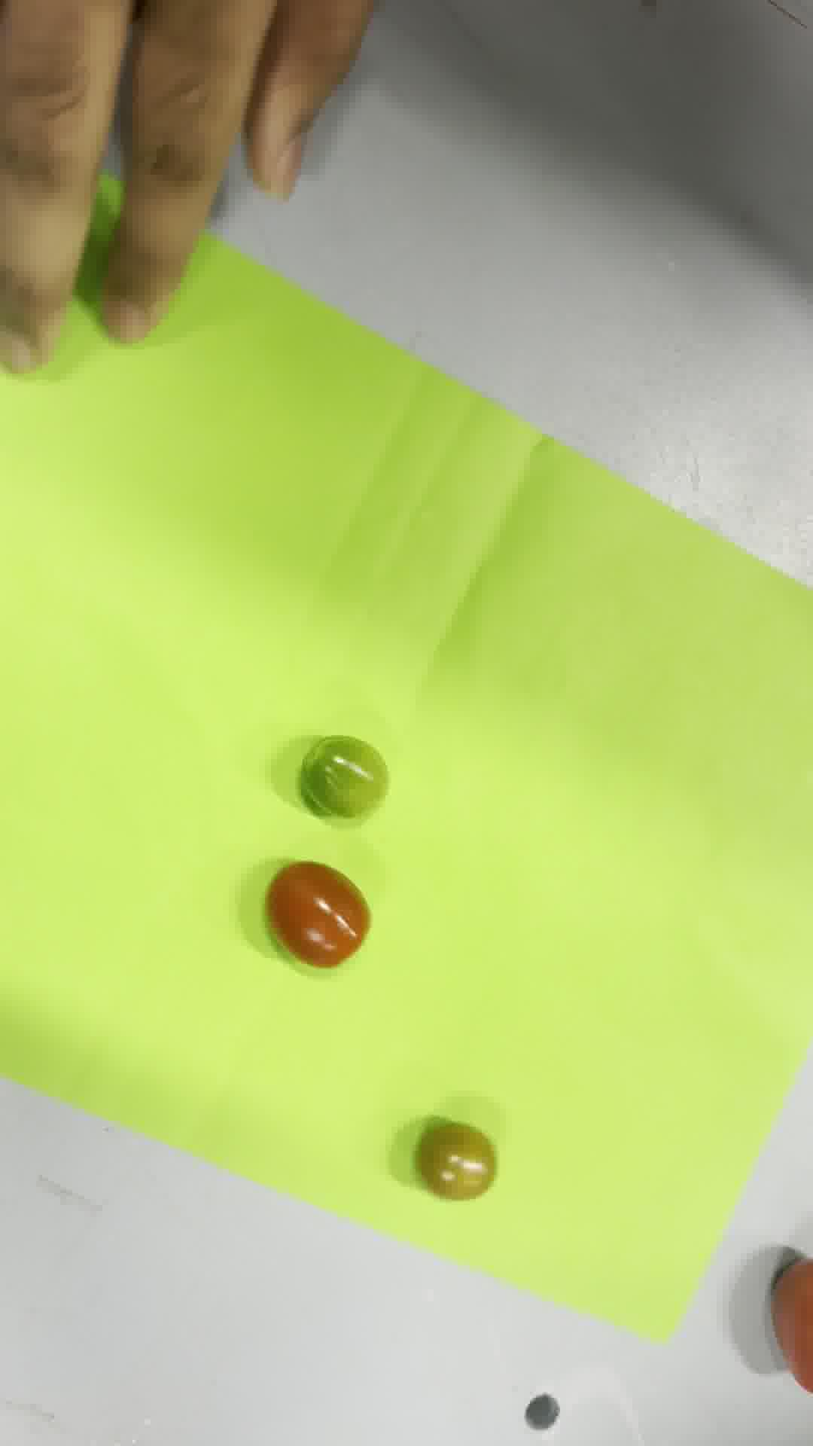green_cherry_tomato: (301, 736, 388, 818)
red_cherry_tomato: (265, 861, 370, 967)
yellow_cherry_tomato: (415, 1118, 497, 1201)
